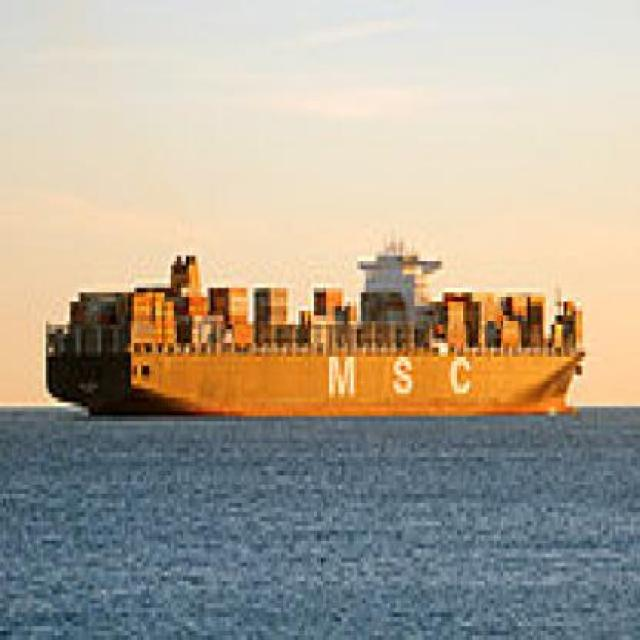container: (25, 193, 620, 440)
